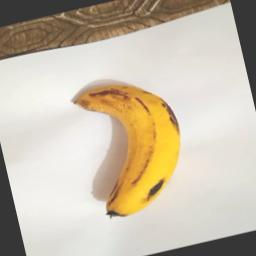Banana Unripe: (65, 67, 198, 226)
